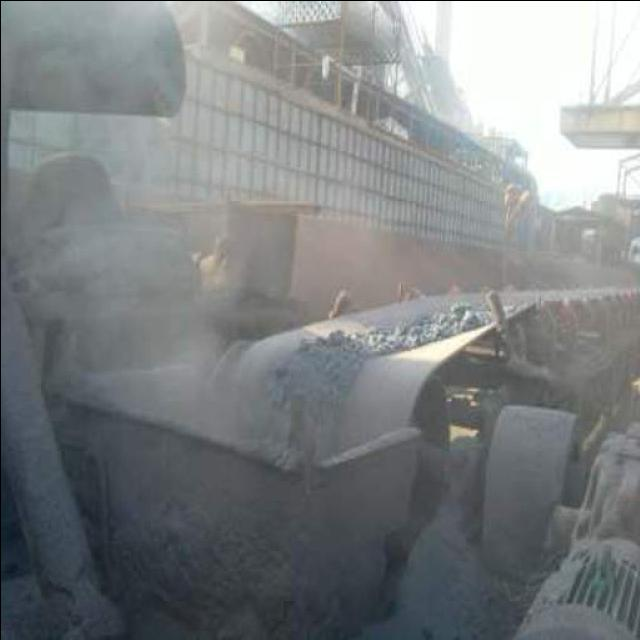conveyor: (192, 292, 640, 463)
